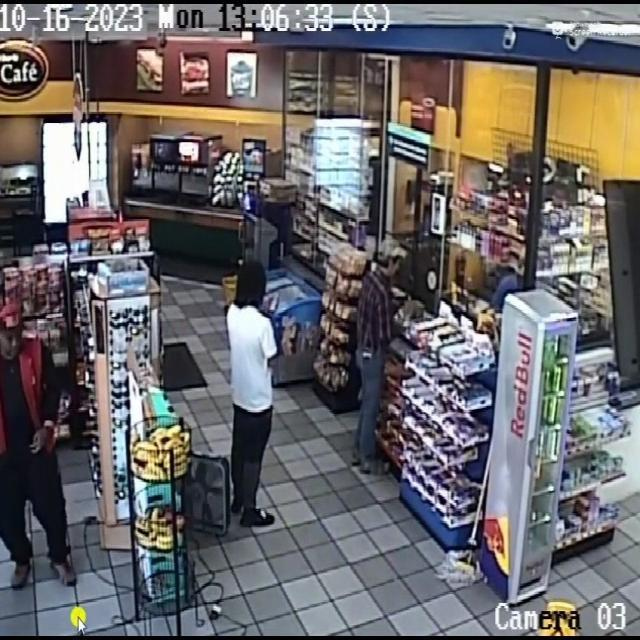Normal: (0, 288, 80, 592), (219, 240, 296, 538), (350, 225, 414, 482)
